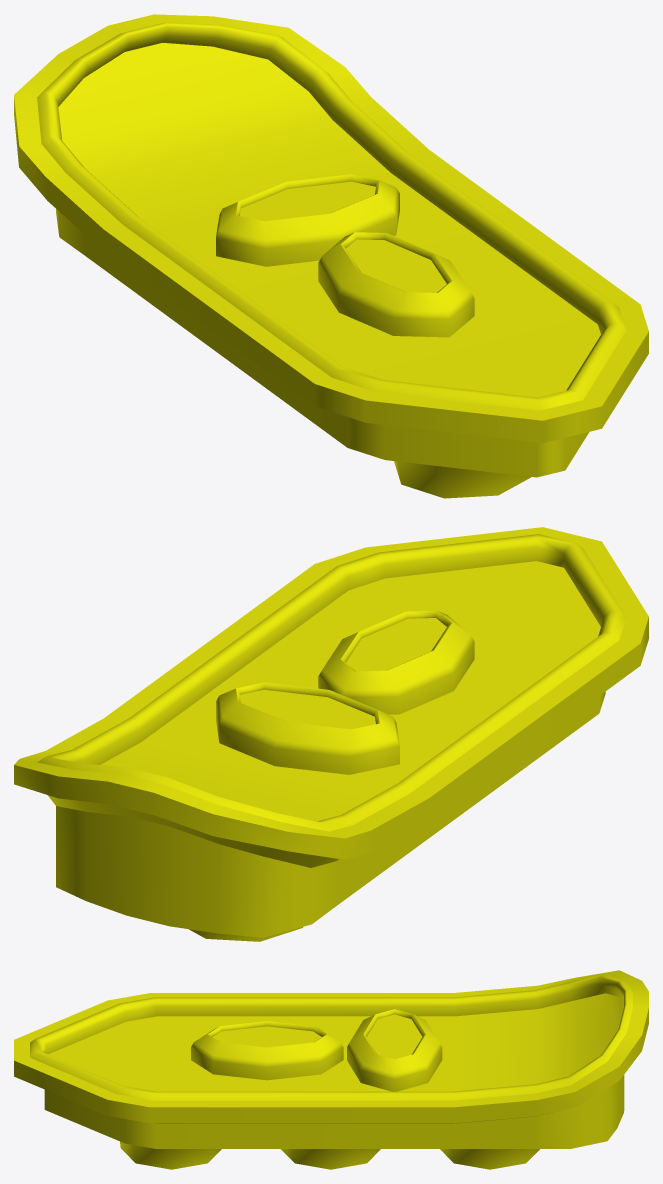
The model's file is Hoverboard_mesh.fbx.
3 views of the same model, one above another, from view 1: azimuth 30°, elevation 25°; view 2: azimuth 150°, elevation 25°; view 3: azimuth 270°, elevation 25° (orthographic). The views are drawn at different scales.
Parts seen in each view (by area): view 1: Hoverboard_mesh; view 2: Hoverboard_mesh; view 3: Hoverboard_mesh.
Part boxes in pixels (x1=…): Hoverboard_mesh: x1=14, y1=14, x2=648, y2=498; Hoverboard_mesh: x1=14, y1=527, x2=648, y2=941; Hoverboard_mesh: x1=14, y1=970, x2=648, y2=1169.
Size of the model in its own units: 0.85 by 0.5243 by 2.
